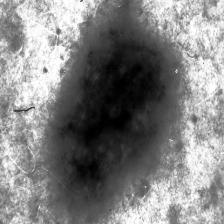Benign Marking or Mole: (60, 31, 164, 198)
